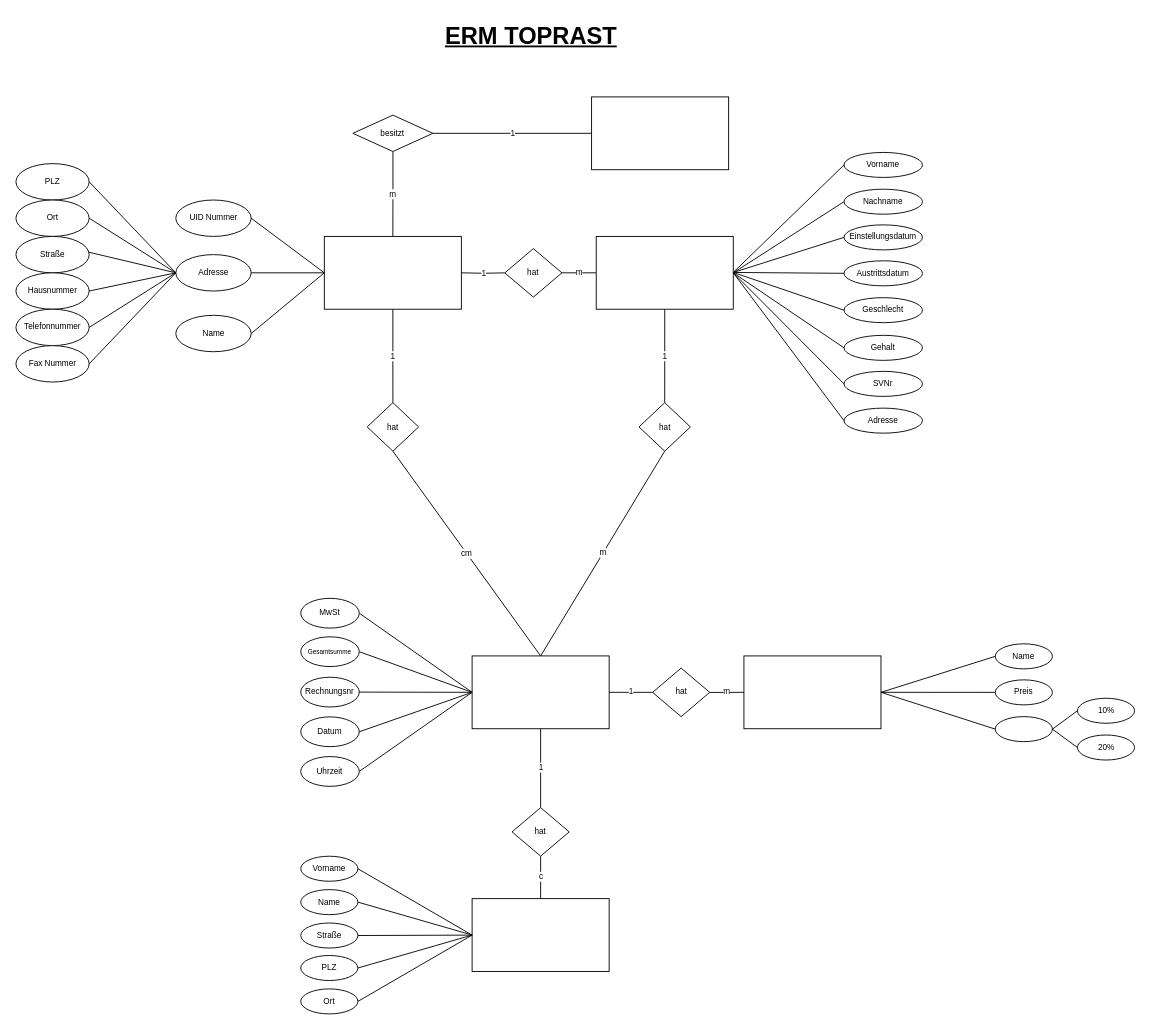
Image size: 1151x1030. Some labels were removed from this diagram. Here are the shapes that lost their labels. From the top down, the centre of each, then its label:
At (660,133): "TOPRAST".
At (392,272): "Restaurant".
At (664,272): "Angestellte".
At (540,692): "Rechnung".
At (812,692): "Artikel".
At (1023,729): "Steuersatz".
At (540,934): "Kunde".
